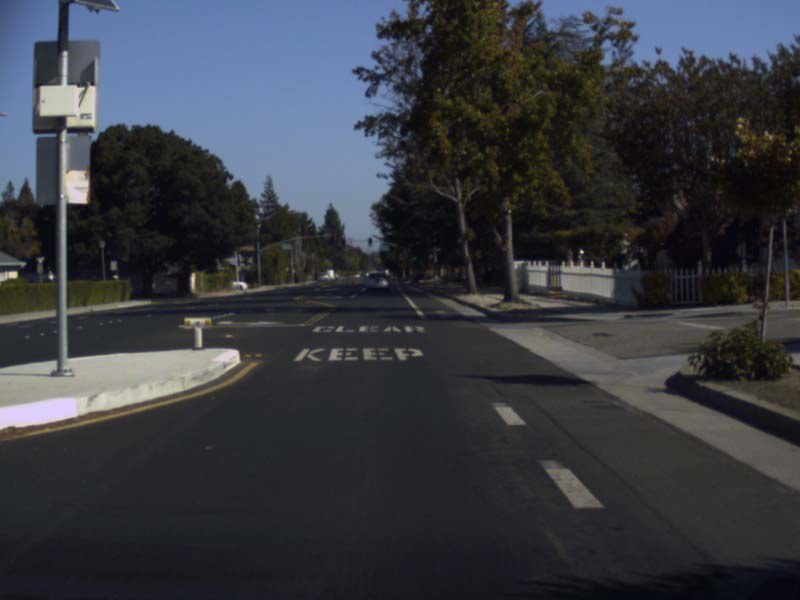Green: (408, 255, 412, 262), (413, 254, 416, 262), (368, 237, 371, 245)
